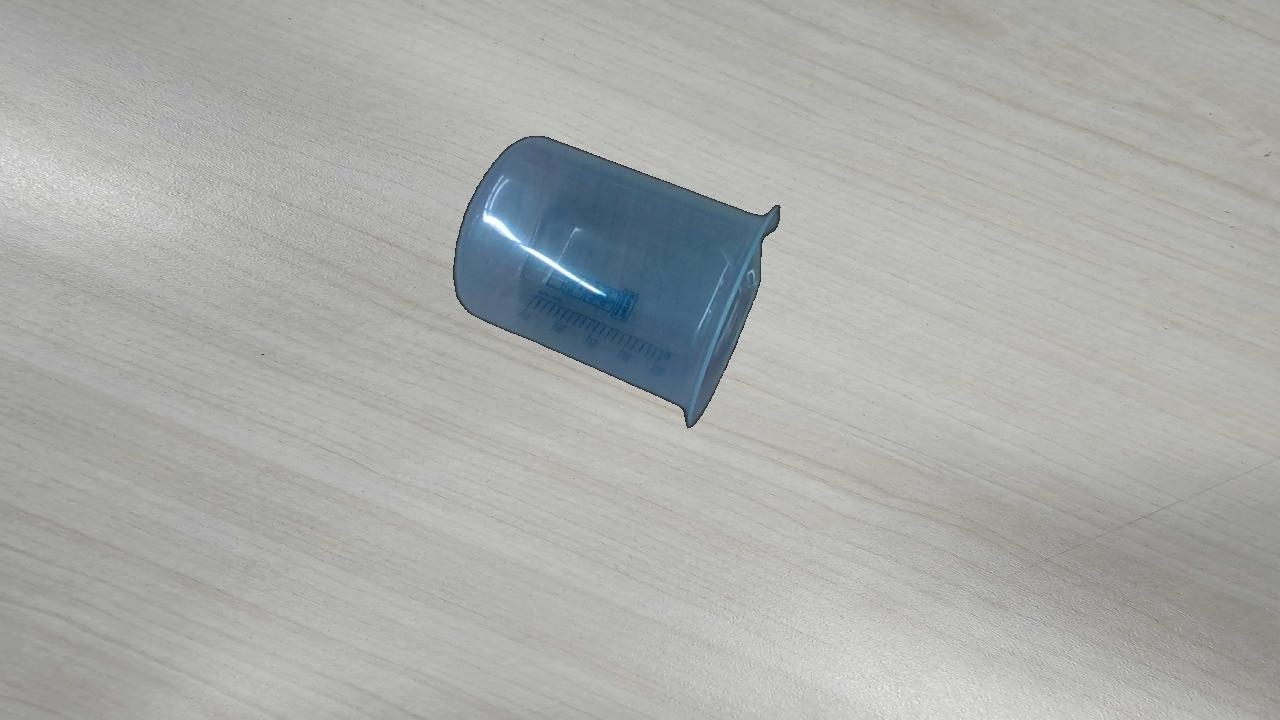becker: (452, 134, 780, 431)
